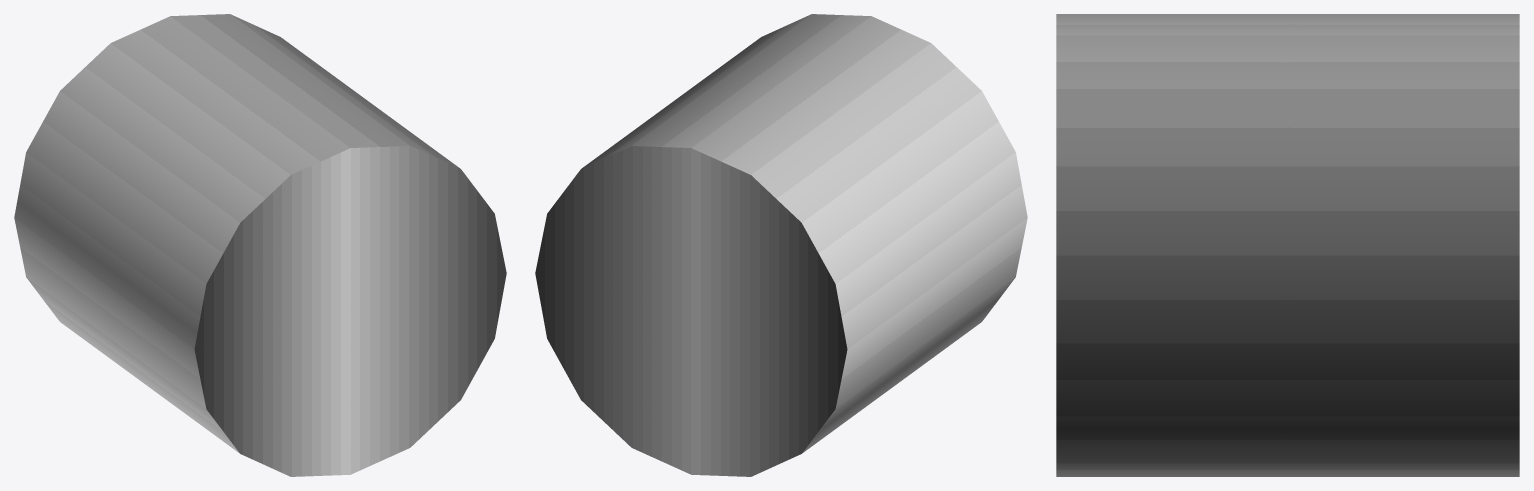
File: pipeGray.dae
The picture shows the model from 3 angles, left to right: view 1: azimuth 30°, elevation 25°; view 2: azimuth 150°, elevation 25°; view 3: azimuth 270°, elevation 25°; orthographic projection. The views are drawn at different scales.
Parts seen in each view (by area): view 1: skpB7DD; view 2: skpB7DD; view 3: skpB7DD.
Part boxes in pixels (box(x1,y1,x2,y2)): skpB7DD: box(14, 14, 506, 476); skpB7DD: box(535, 14, 1027, 476); skpB7DD: box(1056, 14, 1519, 476).
Bounding box in the file's own units: 39.37 × 39.37 × 39.37.
1 material, 1 textured.
